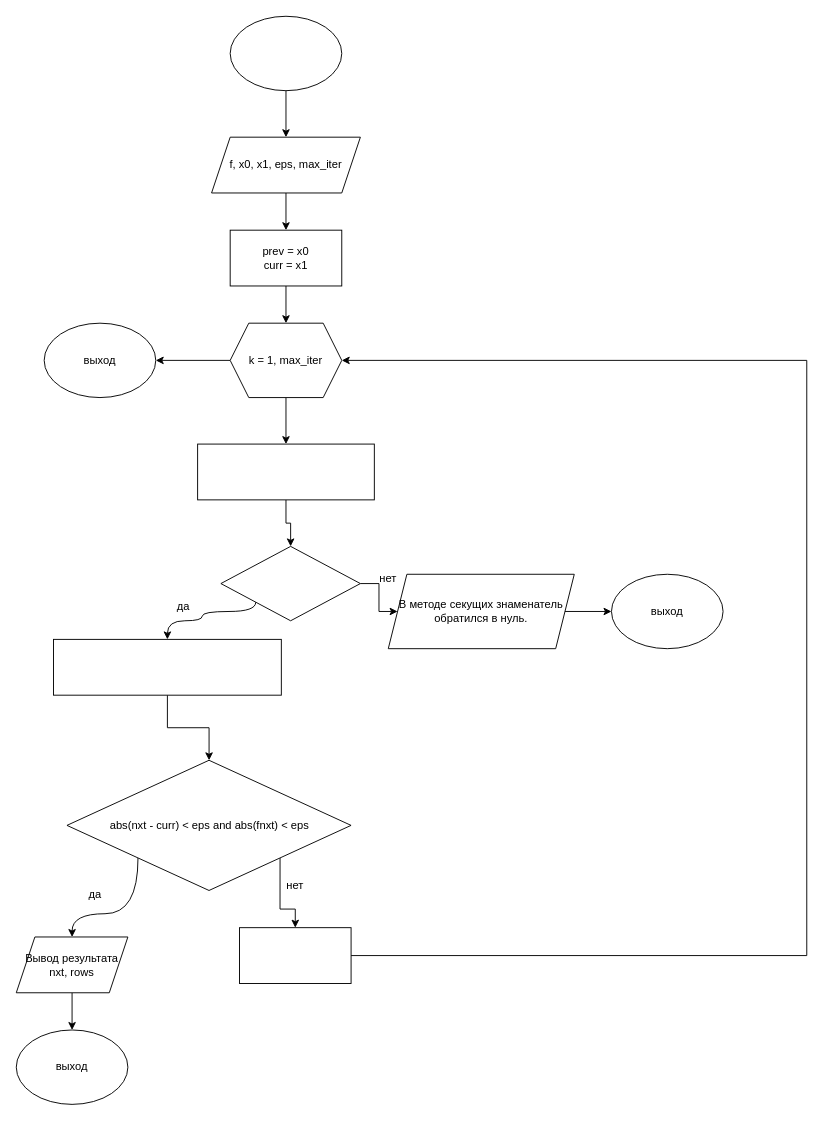
Image size: 830x1121. Some labels were removed from this diagram. Here are the shapes that lost their labels. From the top down, the centre of each, then its label:
At (285,53): "Начало".
At (285,471): "f_prev = f(prev) f_curr = f(curr) denom = f_curr - f_prev".
At (290,583): "abs(denom) < 1e-14".
At (167,666): "nxt = curr - f_curr * (curr - prev) / denom fnxt = f(nxt)".
At (295,955): "prev = curr curr = nxt".
